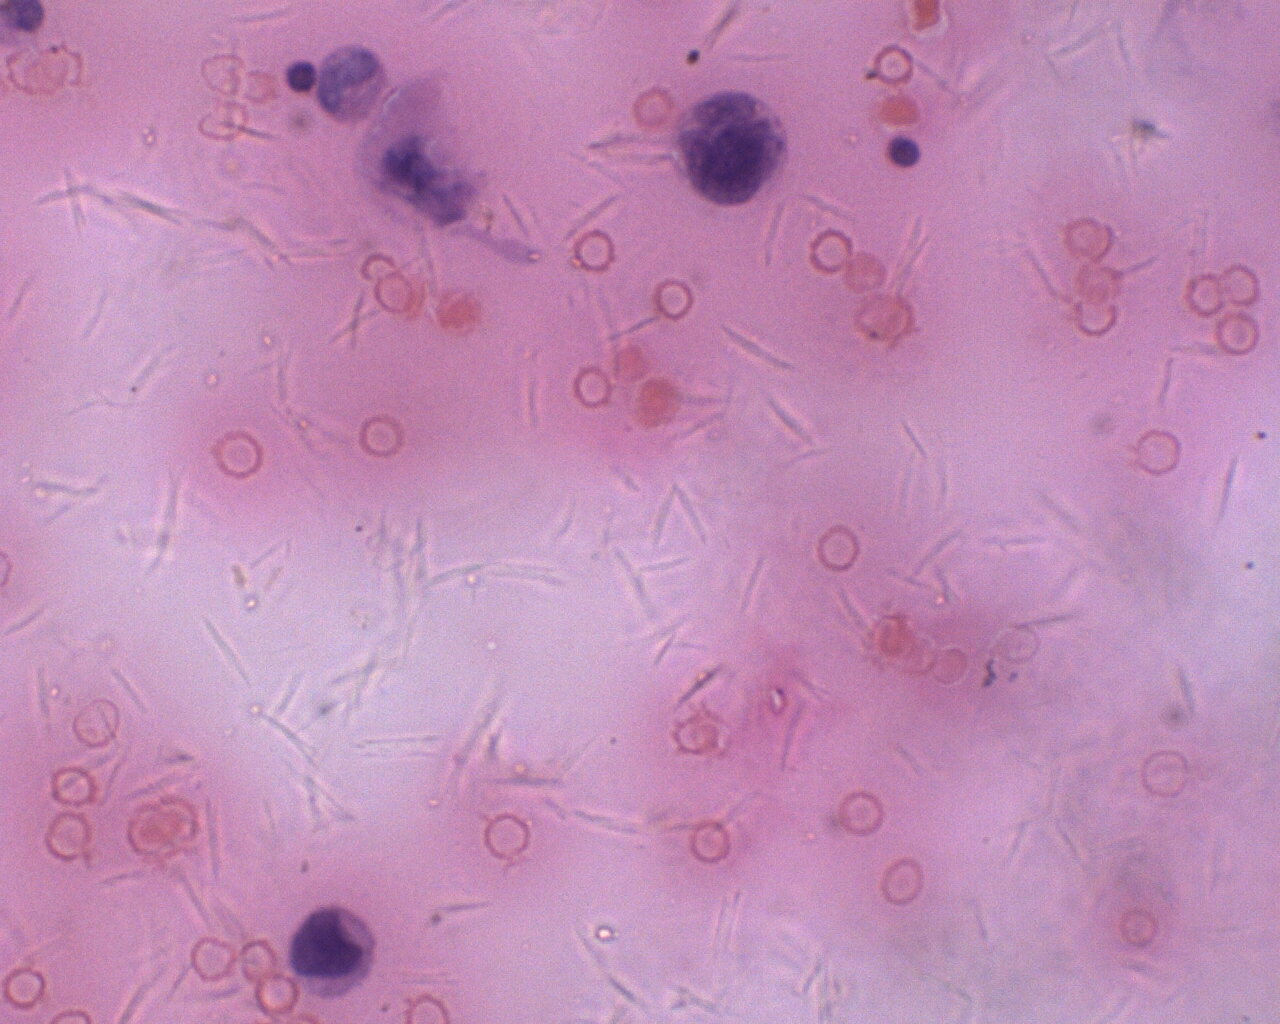ab: (667, 88, 788, 212), (285, 905, 382, 1006)
lymph: (883, 130, 924, 172), (282, 59, 316, 96)
